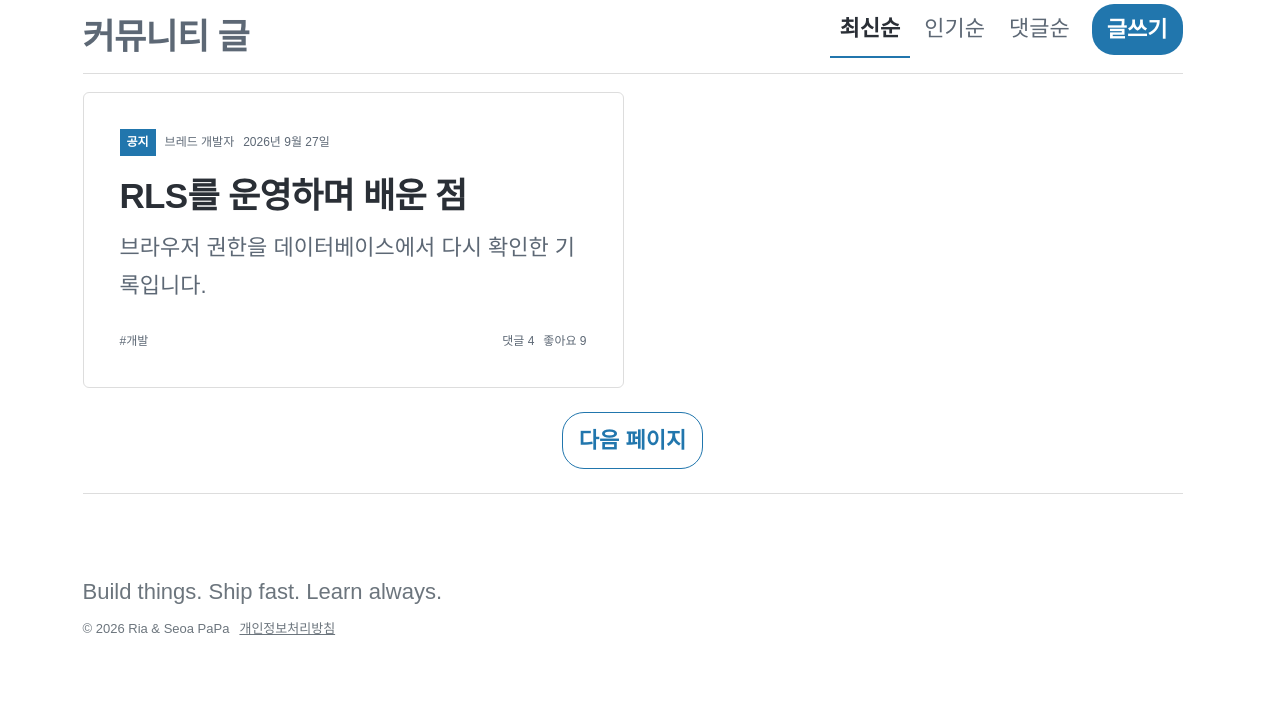
Test: CommunityHomePage › continues pagination when History API snapshot writes exceed quota
(page scrolled)
Click the button "다음 페이지": (632, 441) [562, 412, 703, 469]
(page scrolled)
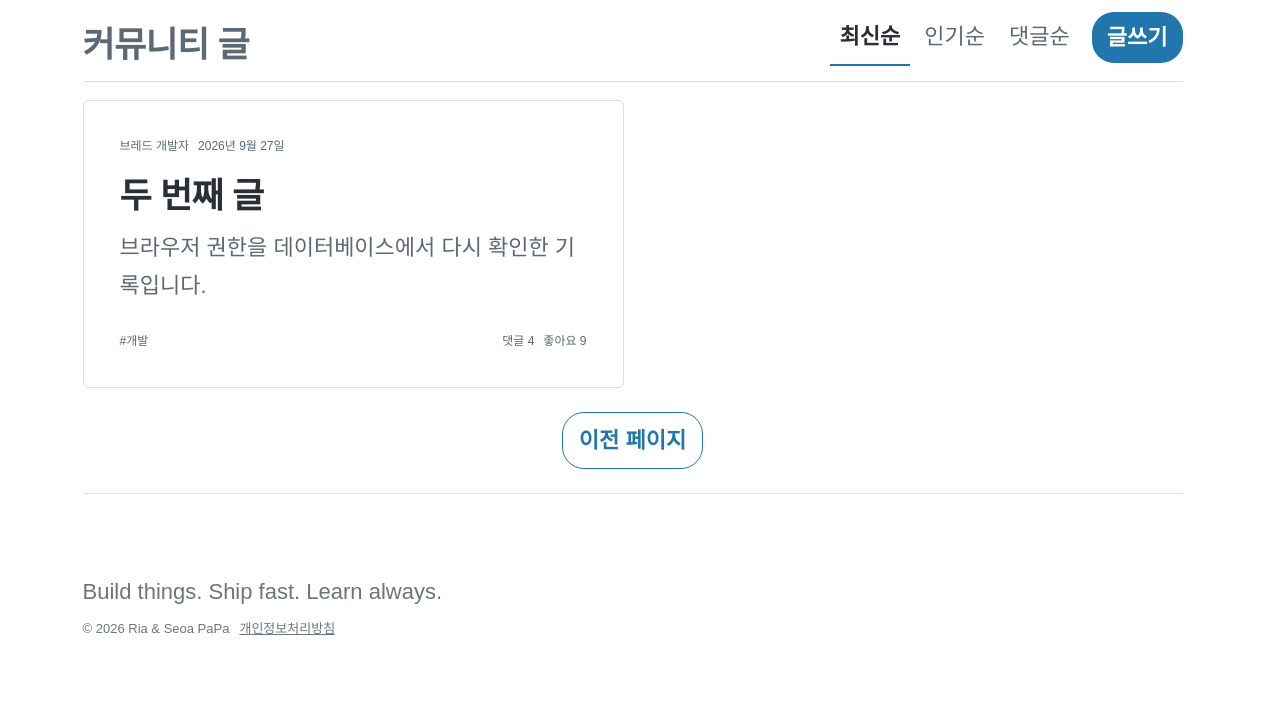
Now the heading "두 번째 글" is shown, box [120, 176, 264, 215]
